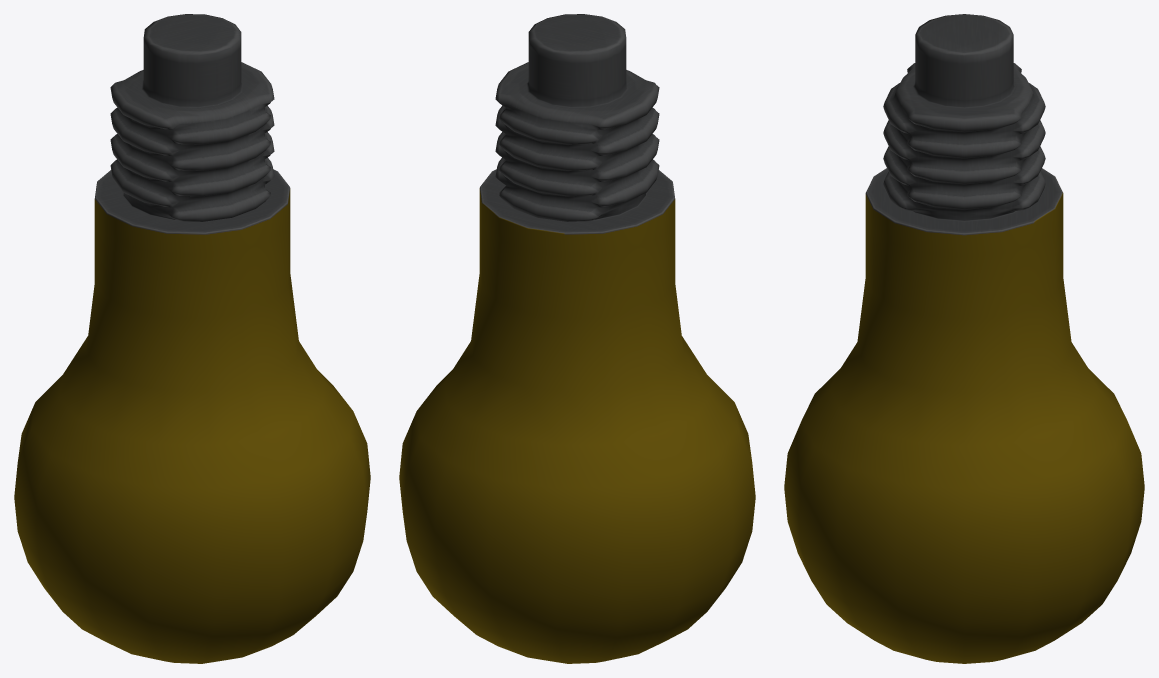
The model's file is Lightbulb.glb.
3 views of the same model, side by side, from view 1: azimuth 30°, elevation 25°; view 2: azimuth 150°, elevation 25°; view 3: azimuth 270°, elevation 25° (orthographic).
Parts seen in each view (by area): view 1: LightBulb; view 2: LightBulb; view 3: LightBulb.
Boxes of the visible parts, <box> form: LightBulb: <box>14,14,370,663</box>; LightBulb: <box>399,14,755,663</box>; LightBulb: <box>784,14,1144,663</box>.
Size of the model in its own units: 2.65 by 4.98 by 2.65.
1 material, 1 textured.
